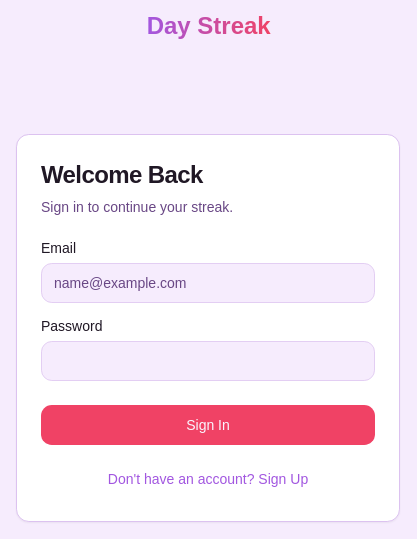
Scenario: AuthScreen › toggles to the sign-up form
Click the button "Don't have an account? Sign Up": [208, 479] box [96,461,320,497]
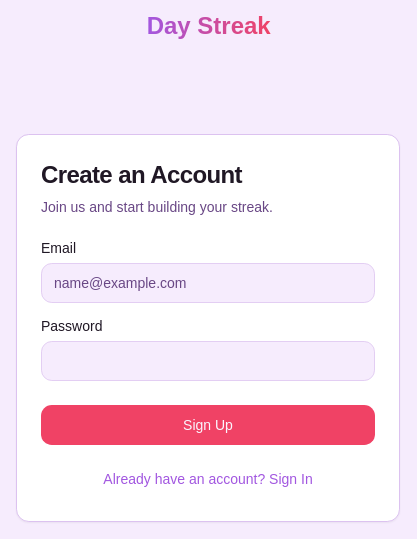
Check: the heading "Create an Account" is shown, box [41,161,242,188]
Check: the button "Sign Up" is shown, box [41,405,375,445]
